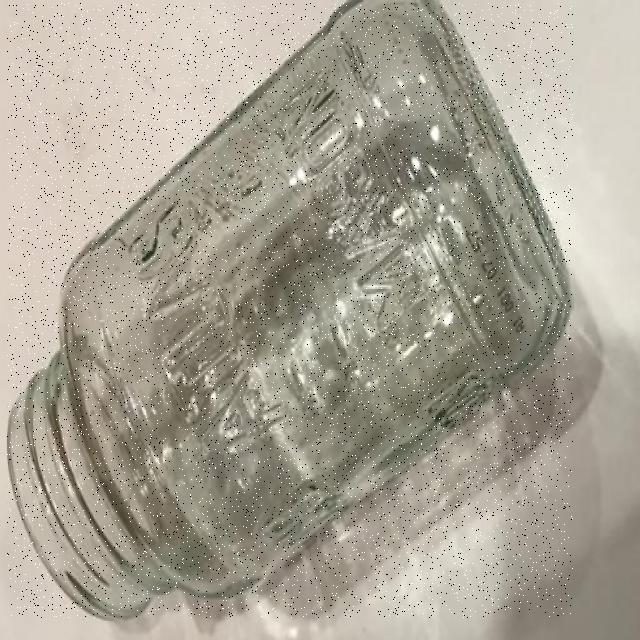glass: (8, 4, 573, 618)
